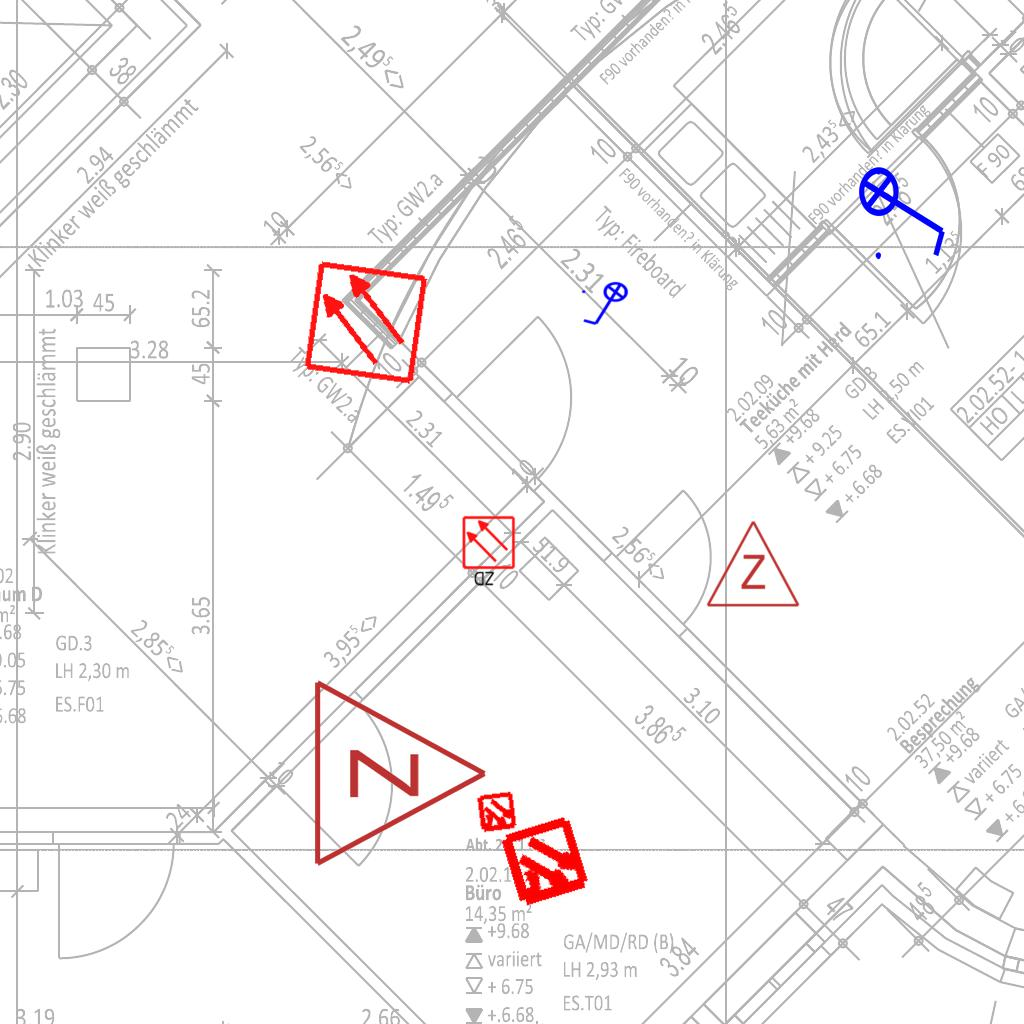Ausschalter_beleuchtet: (857, 153, 953, 265), (579, 281, 635, 329)
OT_Multisensormelder_(Kombination_RMO_WMD): (474, 792, 617, 935), (465, 781, 529, 845)
RMO_Rauchmelder_optischer: (301, 258, 430, 387)
ZD_Melder_in_Zwischendecke_mit_Revisionsoeffnung_mind_40_x_40_cm: (461, 515, 518, 589)
Zimmersignalleuchte: (300, 673, 500, 869), (703, 514, 801, 614)
